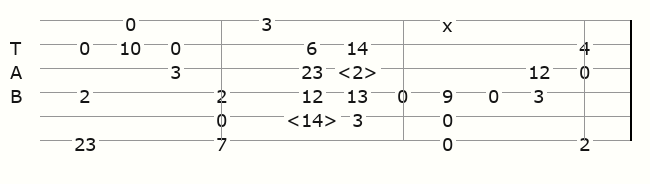0: (79, 36, 94, 53), (125, 12, 140, 29), (170, 36, 185, 53), (216, 108, 231, 125), (397, 84, 412, 101), (442, 132, 457, 149), (442, 108, 457, 125), (488, 84, 503, 101), (579, 60, 594, 77)
10: (119, 36, 145, 53)
12: (301, 84, 327, 101), (528, 60, 554, 77)
13: (346, 84, 372, 101)
14: (346, 36, 372, 53)
2: (79, 84, 94, 101), (216, 84, 231, 101), (579, 132, 594, 149)
23: (74, 132, 100, 149), (301, 60, 327, 77)
3: (170, 60, 185, 77), (261, 12, 276, 29), (352, 108, 367, 125), (533, 84, 548, 101)
4: (579, 36, 594, 53)
6: (306, 36, 321, 53)
7: (216, 132, 231, 149)
9: (442, 84, 457, 101)
harmonic: (286, 108, 342, 125), (337, 60, 382, 77)
x: (442, 13, 457, 27)
